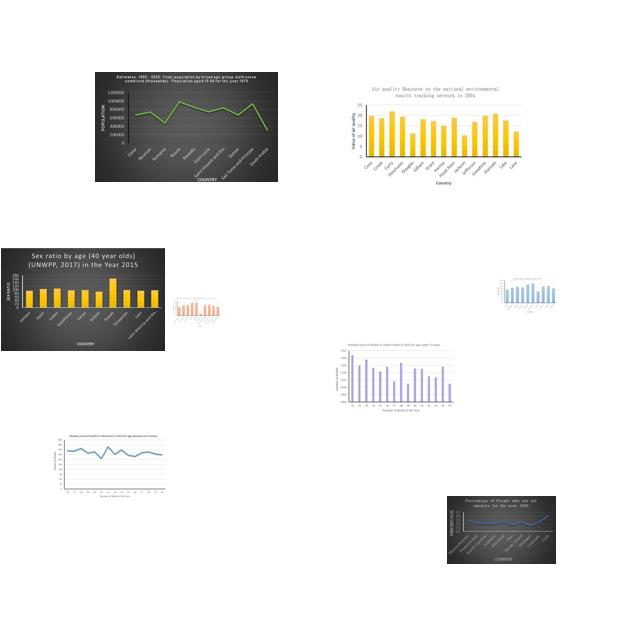Graph: (95, 72, 278, 182), (347, 83, 526, 189), (1, 248, 165, 351), (332, 341, 456, 416), (51, 431, 168, 501), (447, 496, 556, 564), (497, 277, 557, 313), (171, 297, 221, 327)
